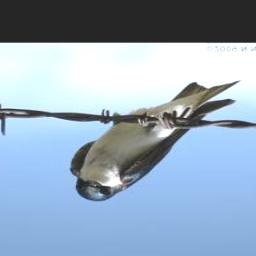Swallow: (68, 81, 237, 202)
